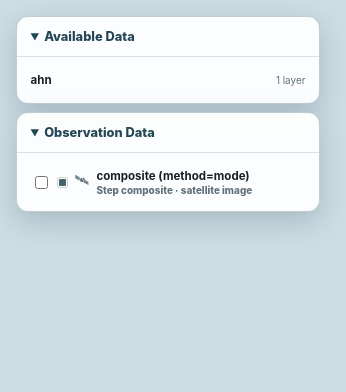
Scenario: Map workspace › shows raster Catalog layers and session observation data as image overlays with legends
Click the text "ahn" at (41, 80), box [31,73,52,87]
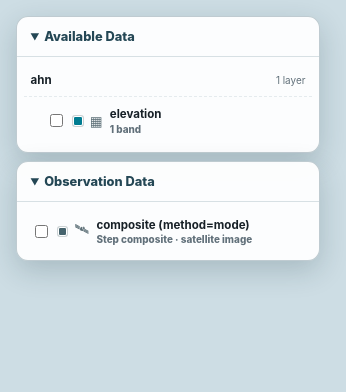
Click the checkbox labelled "▦ elevation 1 band" at (56, 121), box [50,114,63,128]
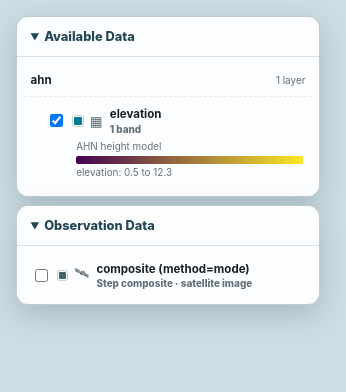
expect the heading "Observation Data" is shown: met, box [17,206,319,246]
expect the text "elevation: 0.5 to 12.3" is shown: met, box [76,166,172,178]
Click the checkbox labelled "🛰 composite (method=mode) Step composite · satellite image" at (41, 274), box [35,268,48,281]
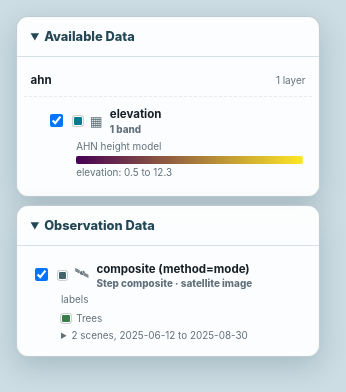
expect the list item "Trees" is shown: met, box [61,312,102,324]
expect the heading "2 scenes, 2025-06-12 to 2025-08-30" is shown: met, box [72,329,248,341]
